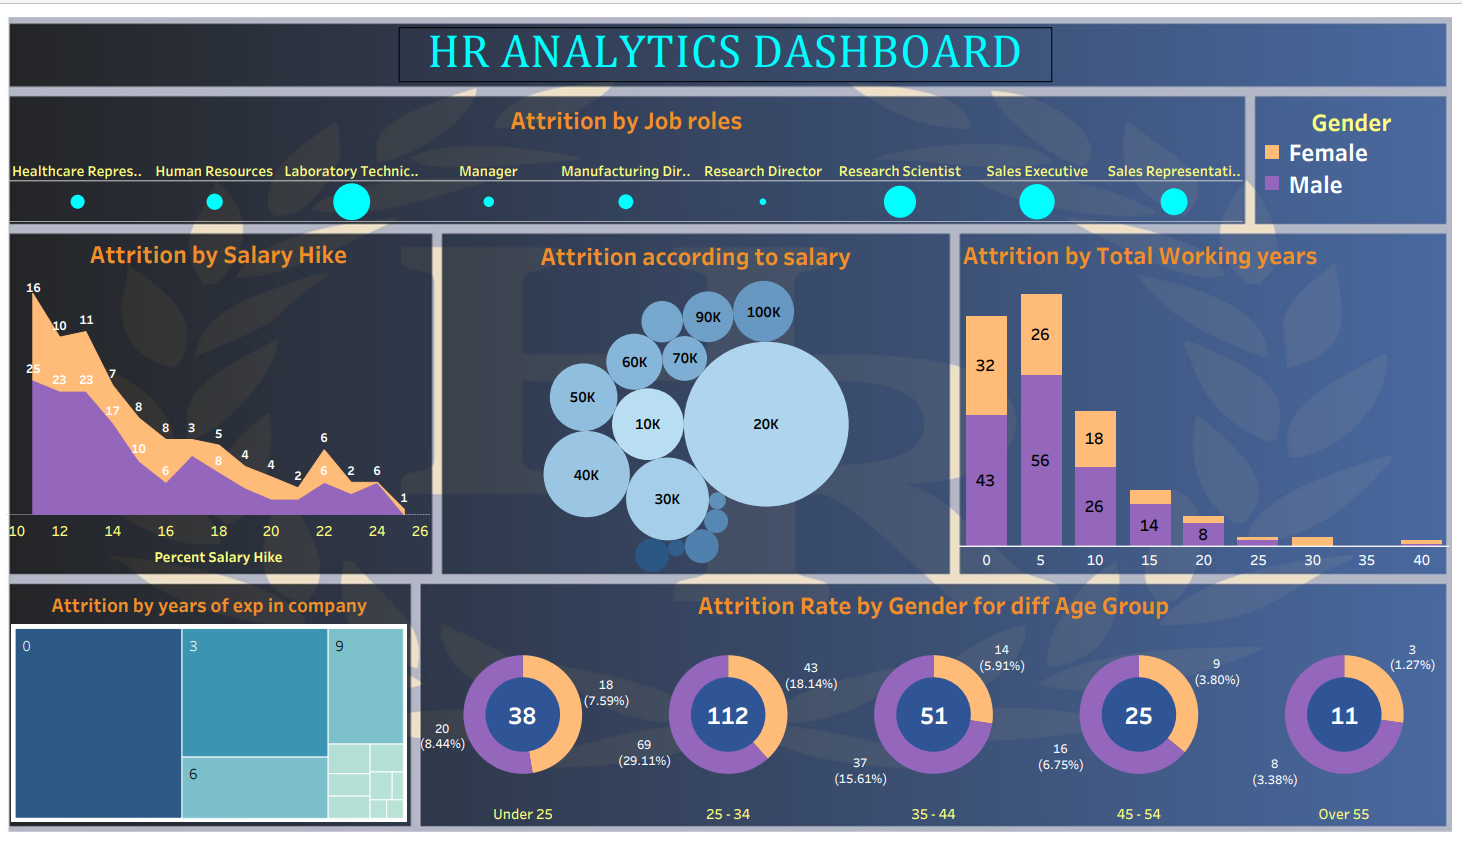

The page's visual inventory and layout, read from the dashboard file:
{"tool":"tableau","page":{"name":"HR Analytics Dashboard - 2","canvas":[1580,900],"ordinal":1},"visuals":[{"type":"image","param":"D:/my stuff/CDAC VITA/Data Visualization/Tableau Project/background image.png","box":[8,8,1564,884]},{"type":"text","box":[437,23,702,59]},{"type":"worksheet","title":"Attrition by Job roles","mark":"Circle","cols":["Job Role"],"box":[18,99,1327,134]},{"type":"legend","title":"Attrition by Total Working years","param":"[federated.1mnktwm1598ybu17pn6q51oiaue2].[none:Gender:nk]","box":[1358,105,203,123]},{"type":"worksheet","title":"Attrition by Salary Hike","mark":"Area","rows":["Calculation_817121897147244544"],"cols":["Percent Salary Hike"],"box":[16,243,455,367]},{"type":"worksheet","title":"Attrition by Total Working years","mark":"Automatic","rows":["Calculation_817121897147244544"],"cols":["Total Working Years (bin)"],"box":[1039,244,526,362]},{"type":"worksheet","title":"Attrition according to salary","mark":"Circle","box":[486,246,540,362]},{"type":"worksheet","title":"Attrition Rate by Gender for diff Age Group","mark":"Pie","rows":["Calculation_817121897228374022","Calculation_817121897228374022"],"cols":["CF_age band"],"box":[460,620,1103,259]},{"type":"worksheet","title":"Attrition by years of exp in company","mark":"Automatic","box":[21,623,425,255]}]}

Visuals, with their boxes in screenshot pixels (x1, y1, x2, y2), scaled from the page's 1580x900 canvas onto the 1462x842 screenshot:
image: 7,7,1455,835
text: 404,22,1054,77
"Attrition by Job roles" worksheet (Circle marks): 17,93,1245,218
"Attrition by Total Working years" legend: 1257,98,1444,213
"Attrition by Salary Hike" worksheet (Area marks): 15,227,436,571
"Attrition by Total Working years" worksheet: 961,228,1448,567
"Attrition according to salary" worksheet (Circle marks): 450,230,949,569
"Attrition Rate by Gender for diff Age Group" worksheet (Pie marks): 426,580,1446,822
"Attrition by years of exp in company" worksheet: 19,583,413,821
